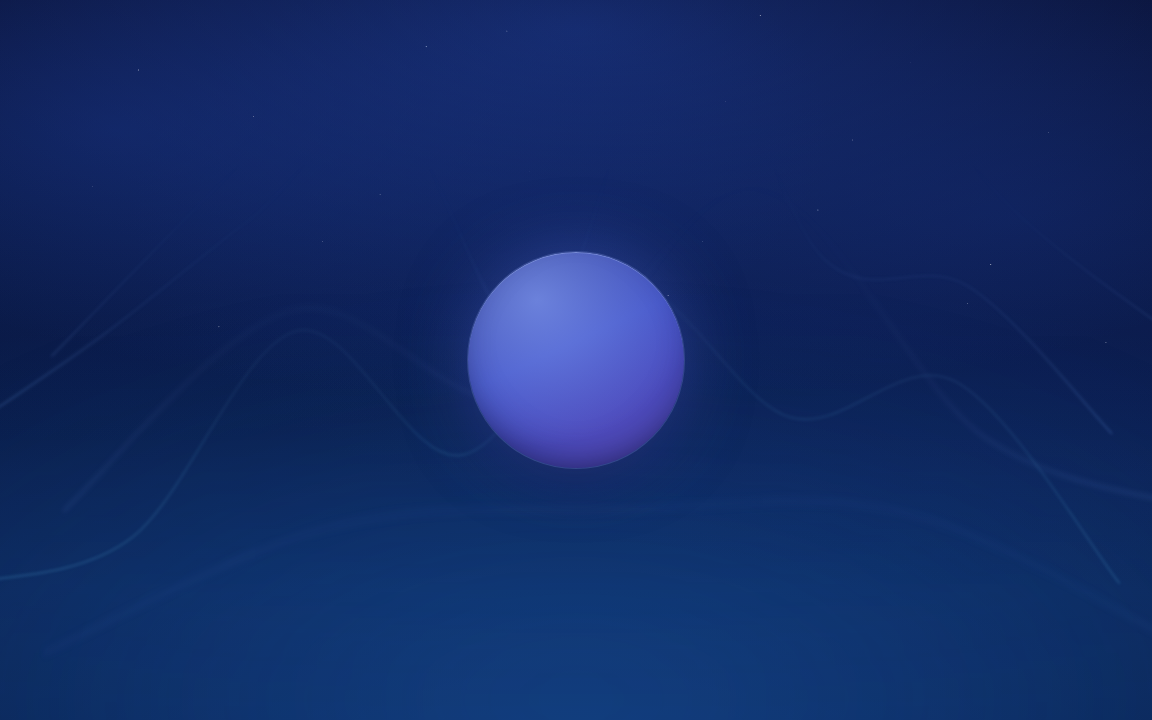
cells appear on hover over hub
The width and height of the screenshot is (1152, 720).
Later steps or results of the test are not shown.
Hover over the element with test id "hub" at coordinates (576, 360), box [468,252,684,468]
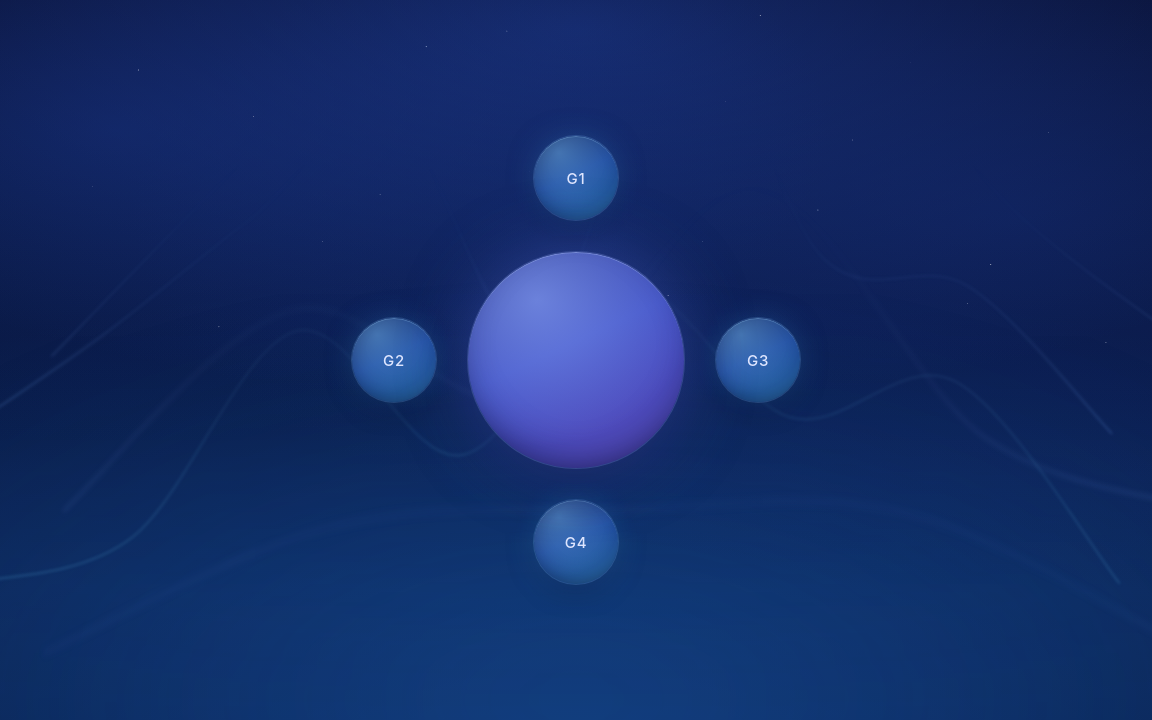
Expected: the element with test id "hub" has class "is-revealed", [340,124,812,596]
